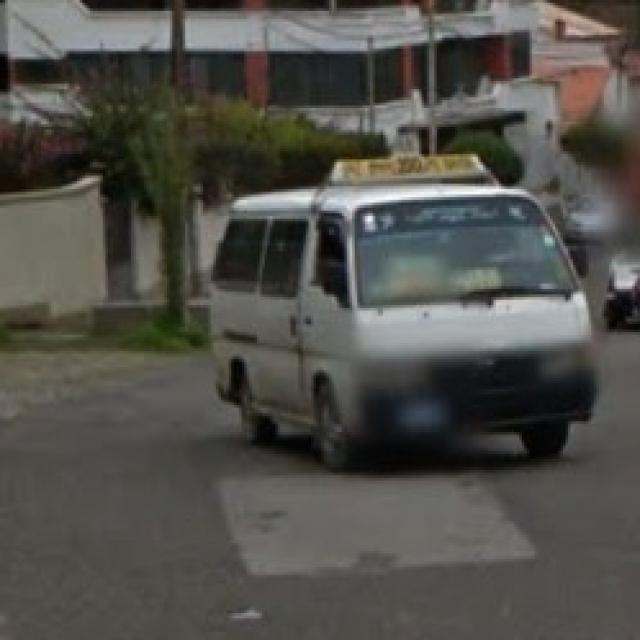car: (209, 164, 598, 461)
